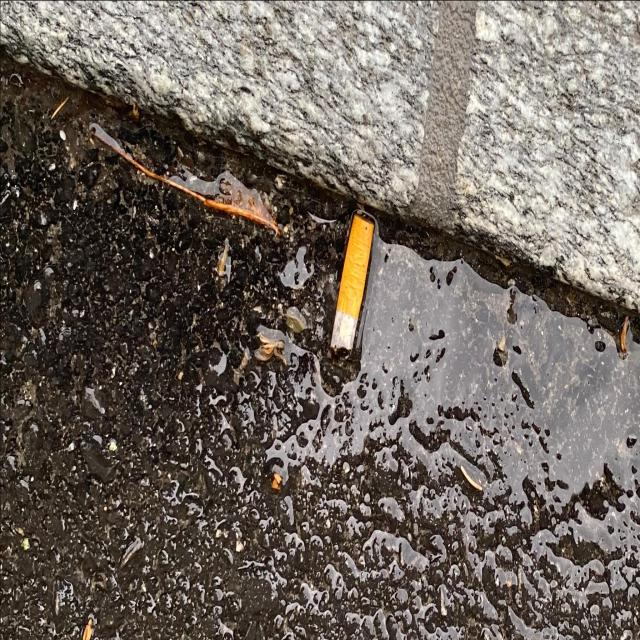other waste: (332, 208, 374, 359)
